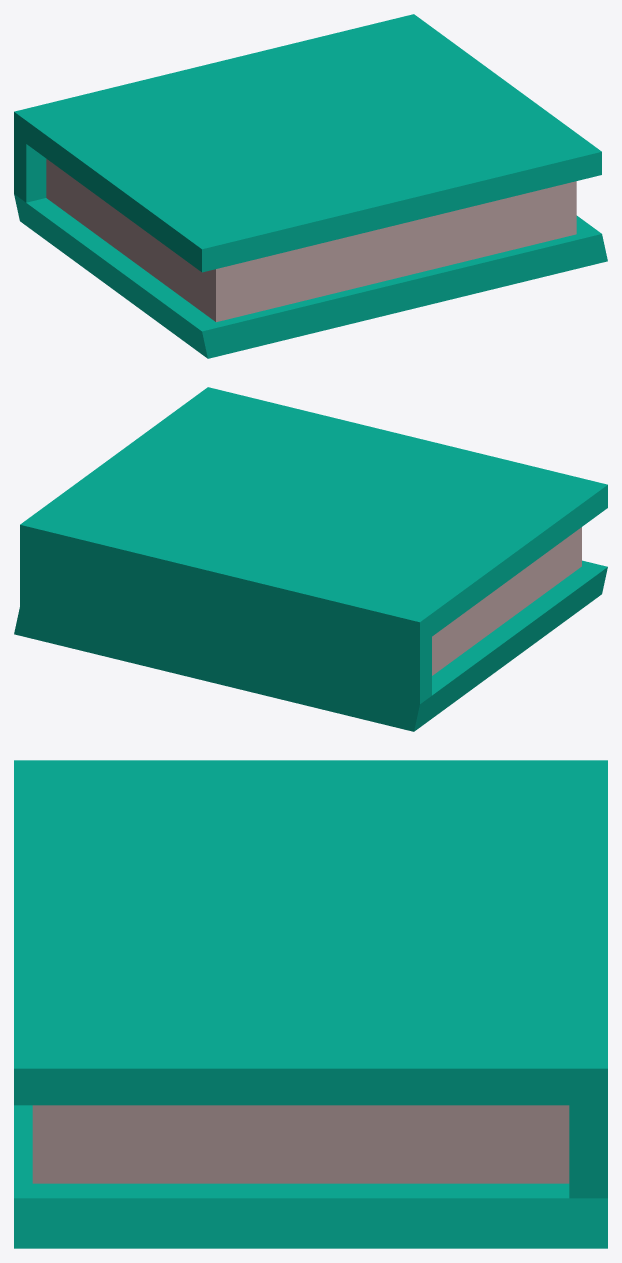
Rendered from closedBook.fbx.
The picture shows the model from 3 angles, top to bottom: view 1: azimuth 30°, elevation 25°; view 2: azimuth 150°, elevation 25°; view 3: azimuth 270°, elevation 25°; orthographic projection. The views are drawn at different scales.
Visible parts, largest first — view 1: closedBook; view 2: closedBook; view 3: closedBook.
Part boxes in pixels (<box>): closedBook: <box>14,14,607,358</box>; closedBook: <box>14,387,607,731</box>; closedBook: <box>14,760,607,1248</box>.
Size of the model in its own units: 20.3 by 5.3 by 16.29.
